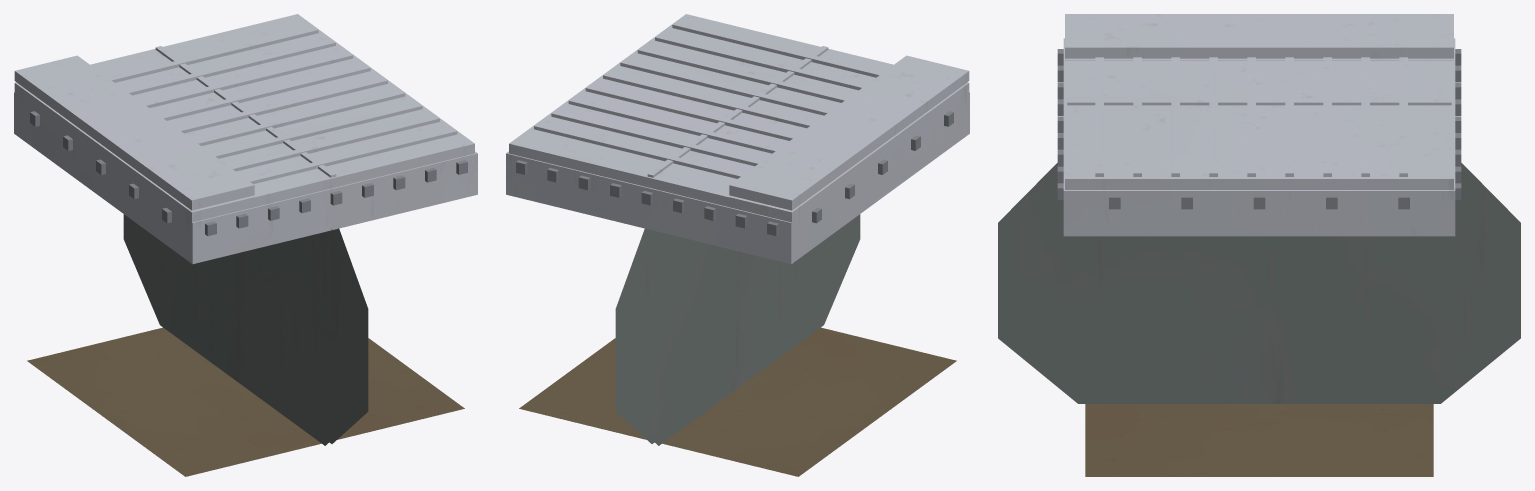
Rendered from module-hold.glb.
3 renders of one model, left to right at view 1: azimuth 30°, elevation 25°; view 2: azimuth 150°, elevation 25°; view 3: azimuth 270°, elevation 25°, orthographic. The views are drawn at different scales.
Parts seen in each view (by area): view 1: compartment__hatch_cover, crossdeck__bulkhead, compartment__cargo_fill, compartment__coaming, compartment__hatch_cover_stowed, compartment__cleats; view 2: compartment__hatch_cover, crossdeck__bulkhead, compartment__cargo_fill, compartment__coaming, compartment__hatch_cover_stowed, compartment__cleats; view 3: crossdeck__bulkhead, compartment__hatch_cover, compartment__cargo_fill, compartment__coaming, compartment__hatch_cover_stowed, compartment__cleats.
Part boxes in pixels (bbox=[...]): compartment__hatch_cover: bbox=[90, 14, 474, 221]; crossdeck__bulkhead: bbox=[123, 214, 368, 445]; compartment__cargo_fill: bbox=[27, 327, 464, 476]; compartment__coaming: bbox=[14, 92, 477, 264]; compartment__hatch_cover_stowed: bbox=[14, 55, 254, 222]; compartment__cleats: bbox=[30, 111, 467, 235]; compartment__hatch_cover: bbox=[509, 14, 893, 221]; crossdeck__bulkhead: bbox=[615, 214, 860, 445]; compartment__cargo_fill: bbox=[519, 327, 956, 476]; compartment__coaming: bbox=[506, 92, 969, 264]; compartment__hatch_cover_stowed: bbox=[729, 55, 969, 222]; compartment__cleats: bbox=[516, 111, 953, 235]; crossdeck__bulkhead: bbox=[998, 163, 1520, 403]; compartment__hatch_cover: bbox=[1065, 57, 1453, 189]; compartment__cargo_fill: bbox=[1085, 404, 1433, 476]; compartment__coaming: bbox=[1063, 38, 1455, 236]; compartment__hatch_cover_stowed: bbox=[1065, 14, 1453, 60]; compartment__cleats: bbox=[1057, 49, 1461, 209].
Size of the model in its own units: 1.03 by 0.9505 by 1.45.
Materials: 8 (8 with a texture image).
